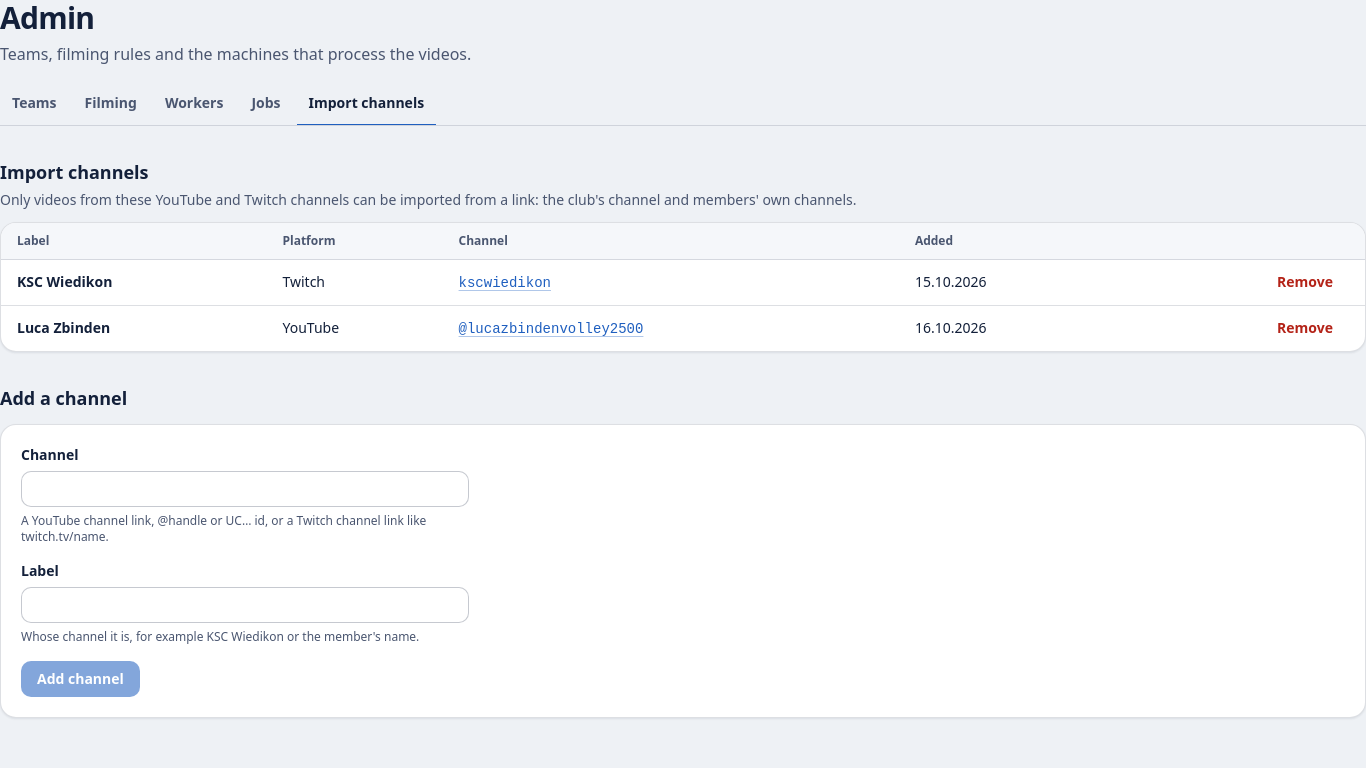
Test: AdminImportChannelsPage › removes a channel after confirming
The width and height of the screenshot is (1366, 768).
Click the button with aria-label "Remove Luca Zbinden" at (1305, 328), box left=1261, top=310, right=1349, bottom=346
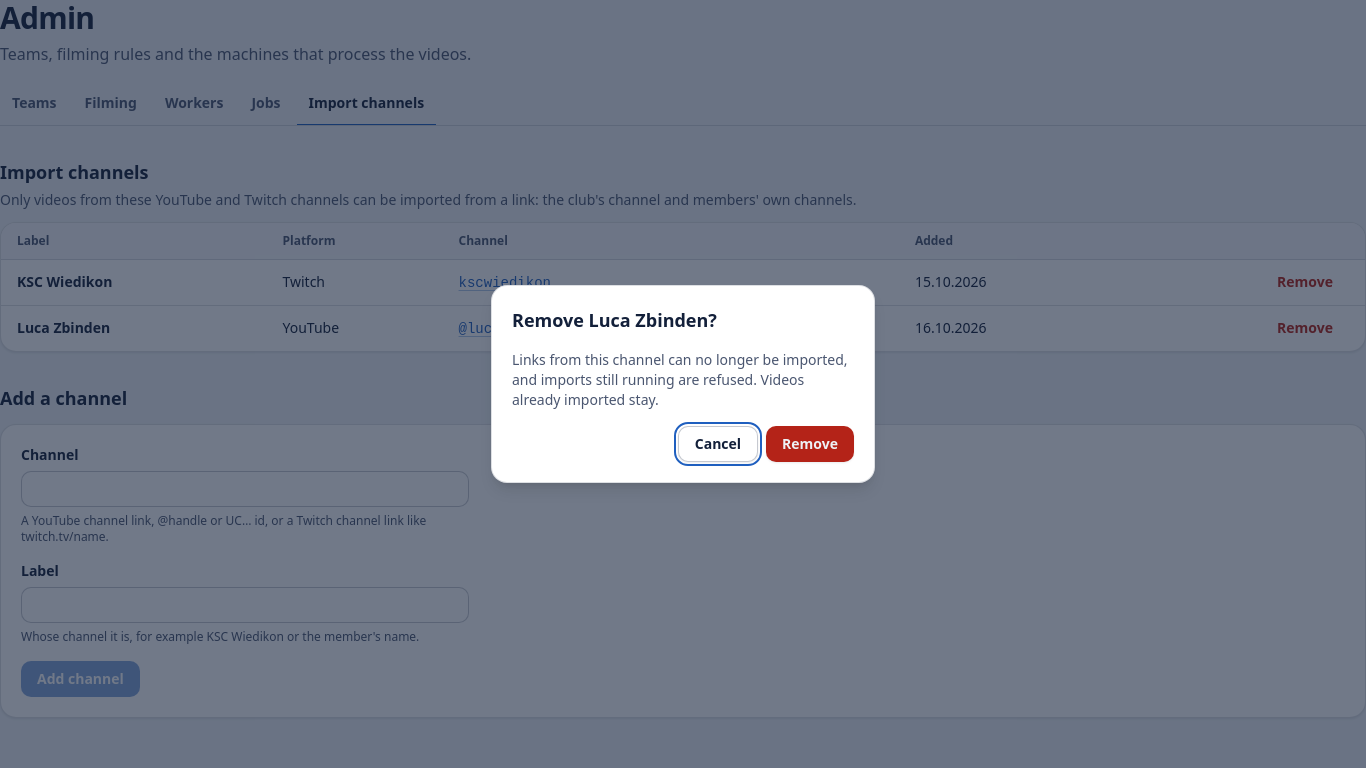
Result: the dialog "Remove Luca Zbinden?" shows "Videos already imported stay." at left=512, top=350, right=848, bottom=409
Click the button "Remove" at (810, 444), box left=766, top=426, right=854, bottom=462
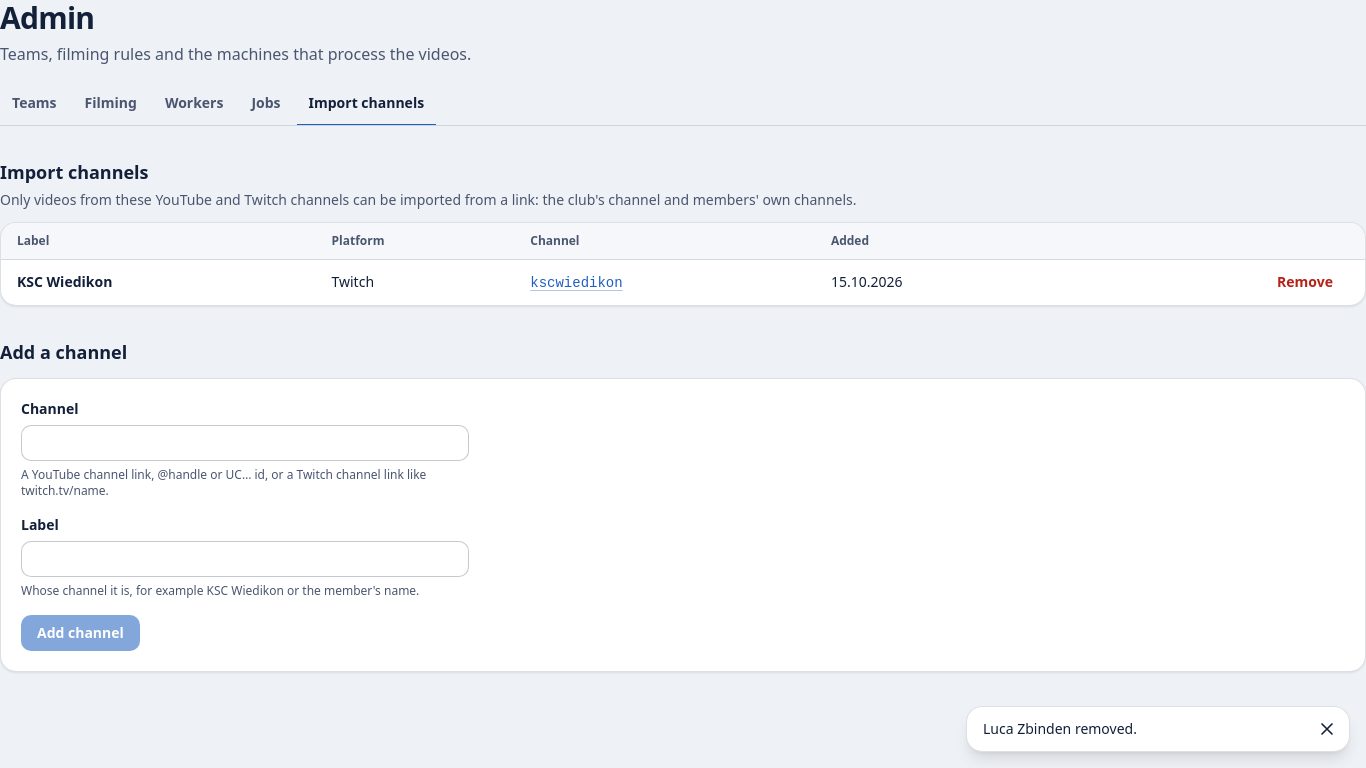
Expected: the button with aria-label "Remove KSC Wiedikon" is shown, left=1261, top=264, right=1349, bottom=300
Result: the text "Luca Zbinden removed." is shown at left=983, top=719, right=1137, bottom=738
Result: the table "Remove Luca Zbinden" is gone
